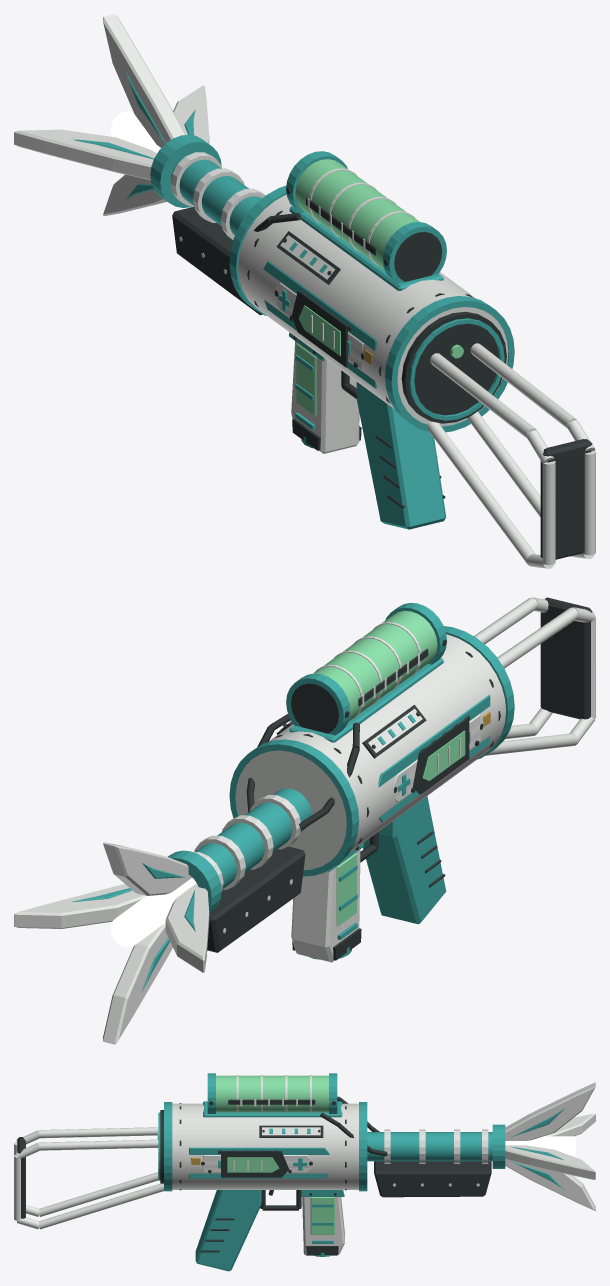
Rendered from medic_4.glb.
The picture shows the model from 3 angles, top to bottom: view 1: azimuth 30°, elevation 25°; view 2: azimuth 150°, elevation 25°; view 3: azimuth 270°, elevation 25°; orthographic projection. The views are drawn at different scales.
Parts seen in each view (by area): view 1: Weapon_medic_v1; view 2: Weapon_medic_v1; view 3: Weapon_medic_v1.
Part boxes in pixels (<box>): Weapon_medic_v1: <box>14,14,595,568</box>; Weapon_medic_v1: <box>14,597,595,1044</box>; Weapon_medic_v1: <box>14,1073,595,1271</box>.
Bounding box in the file's own units: 0.1982 × 0.3022 × 0.8351.
